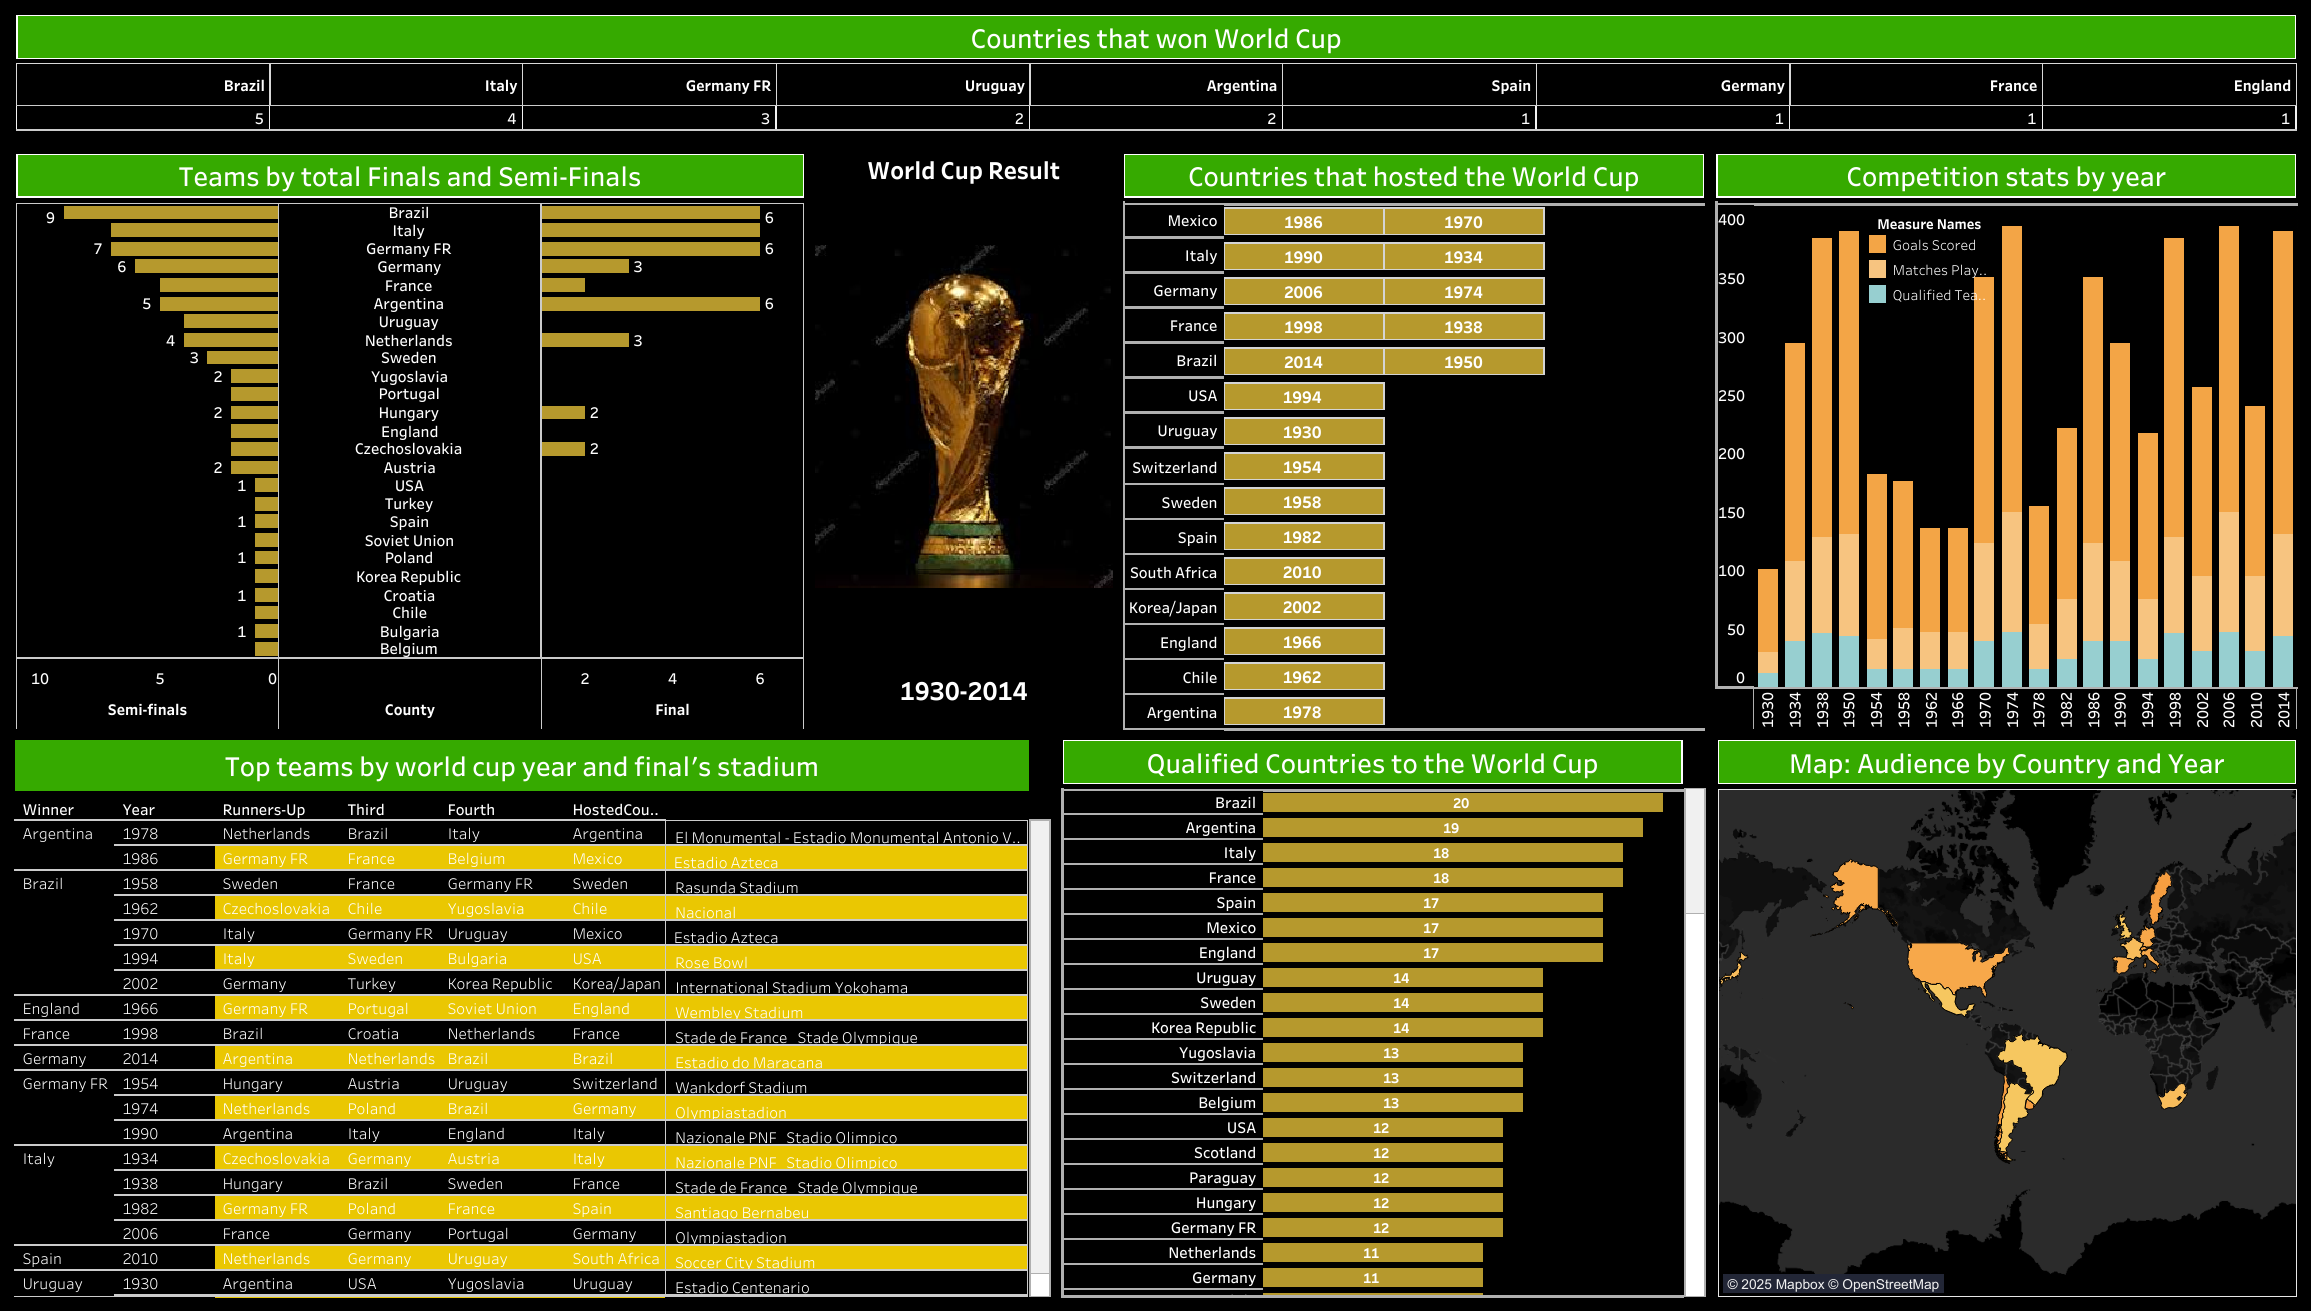

The dashboard page shown, as its layout file describes it:
{"tool":"tableau","page":{"name":"Dashboard 1","canvas":[1850,1050],"ordinal":0},"visuals":[{"type":"worksheet","title":"Countries that won the World Cup","mark":"Automatic","cols":["Winner"],"box":[8,8,1834,120]},{"type":"image","param":"Image/Spain flag.jpg","box":[1025,56,83,39]},{"type":"image","param":"Image/France Flag.jpg","box":[1152,56,651,37]},{"type":"image","param":"Image/England flag.png","box":[1646,56,58,43]},{"type":"image","param":"Image/Germany flag.png","box":[417,58,56,38]},{"type":"image","param":"Image/Germany flag.png","box":[1233,58,68,35]},{"type":"image","param":"Image/Italy flag.png","box":[229,63,62,36]},{"type":"image","param":"Image/Brazil flag.png","box":[19,64,71,38]},{"type":"image","param":"Image/uruguay flag.png","box":[629,65,63,33]},{"type":"image","param":"Image/Argentina flag.jfif","box":[826,65,56,34]},{"type":"worksheet","title":"Teams by total Finals and Semi-Finals","mark":"Automatic","rows":["Team"],"cols":["Calculation_1941332974280015873","Calculation_1941332974280372226","Calculation_1941332974279802880"],"box":[8,128,458.5,485]},{"type":"image","param":"Image/worl cup pic.png","box":[466.5,128,359.5,485]},{"type":"worksheet","title":"Countries that hosted the world cup","mark":"Automatic","rows":["Country"],"cols":["Year"],"box":[826,128,557.5,457.5]},{"type":"worksheet","title":"Competition stats by year","mark":"Bar","cols":["Year (WorldCupMatches)"],"box":[1383.5,128,458.5,457.5]},{"type":"text","box":[549,133,227,30]},{"type":"legend","title":"Competition stats by year","param":"[federated.0ttxm8b15s3en2124zkir0a6v5vx].[:Measure Names]","box":[1499,184,140,79]},{"type":"text","box":[580,543,135,34]},{"type":"worksheet","title":"Countries qualified to the World Cup","mark":"Automatic","rows":["Team"],"cols":["Year (World Cup - Tableau format)"],"box":[826,585.5,557.5,456.5]},{"type":"worksheet","title":"Map:Audience by country and Year","mark":"Multipolygon","box":[1383.5,585.5,458.5,456.5]},{"type":"worksheet","title":"Top teams by world cup year and final's stadium","mark":"Automatic","rows":["Winner","Year","Runners-Up","Third","Fourth","Country"],"box":[8,613,818,429]}]}

Visuals, with their boxes in screenshot pixels (x1, y1, x2, y2), scaled from the page's 1850x1050 canvas onto the 2311x1311 screenshot:
"Countries that won the World Cup" worksheet: box=[10, 10, 2301, 160]
image: box=[1280, 70, 1384, 119]
image: box=[1439, 70, 2252, 116]
image: box=[2056, 70, 2129, 124]
image: box=[521, 72, 591, 120]
image: box=[1540, 72, 1625, 116]
image: box=[286, 79, 364, 124]
image: box=[24, 80, 112, 127]
image: box=[786, 81, 864, 122]
image: box=[1032, 81, 1102, 124]
"Teams by total Finals and Semi-Finals" worksheet: box=[10, 160, 583, 765]
image: box=[583, 160, 1032, 765]
"Countries that hosted the world cup" worksheet: box=[1032, 160, 1728, 731]
"Competition stats by year" worksheet (Bar marks): box=[1728, 160, 2301, 731]
text: box=[686, 166, 969, 204]
"Competition stats by year" legend: box=[1873, 230, 2047, 328]
text: box=[725, 678, 893, 720]
"Countries qualified to the World Cup" worksheet: box=[1032, 731, 1728, 1301]
"Map:Audience by country and Year" worksheet (Multipolygon marks): box=[1728, 731, 2301, 1301]
"Top teams by world cup year and final's stadium" worksheet: box=[10, 765, 1032, 1301]
